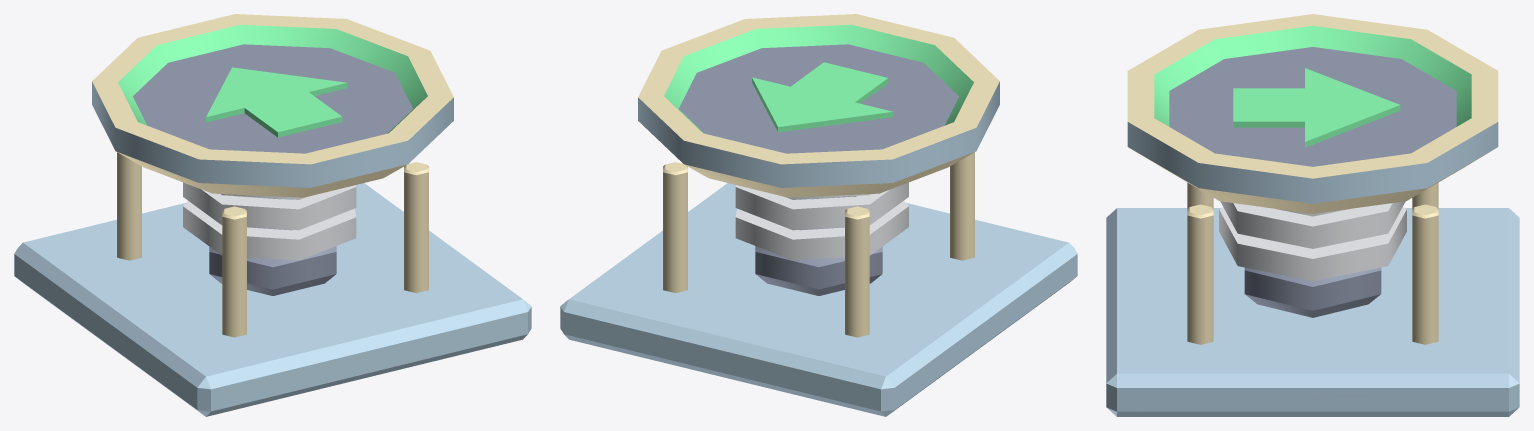
Rendered from R4X_JumpPadDeployer_LOD1.glb.
The picture shows the model from 3 angles, left to right: view 1: azimuth 30°, elevation 25°; view 2: azimuth 150°, elevation 25°; view 3: azimuth 270°, elevation 25°; orthographic projection. The views are drawn at different scales.
Visible parts, largest first — view 1: R4X_JumpPadDeployer_LOD1; view 2: R4X_JumpPadDeployer_LOD1; view 3: R4X_JumpPadDeployer_LOD1.
Part boxes in pixels (x1,y1,x2,y2): R4X_JumpPadDeployer_LOD1: [14, 14, 531, 416]; R4X_JumpPadDeployer_LOD1: [560, 14, 1077, 416]; R4X_JumpPadDeployer_LOD1: [1106, 14, 1519, 416].
Bounding box in the file's own units: 0.52 × 0.33 × 0.52.
